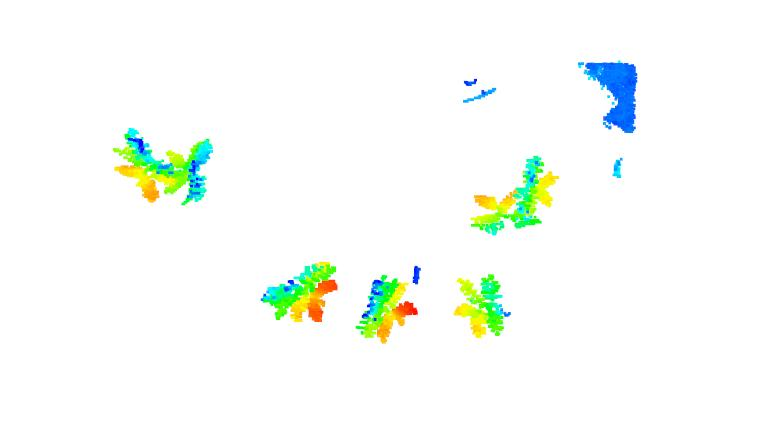chickpea: (260, 258, 339, 324), (111, 127, 173, 200), (355, 277, 417, 345), (453, 273, 508, 340), (164, 137, 216, 205), (469, 189, 542, 236), (514, 154, 557, 219)
